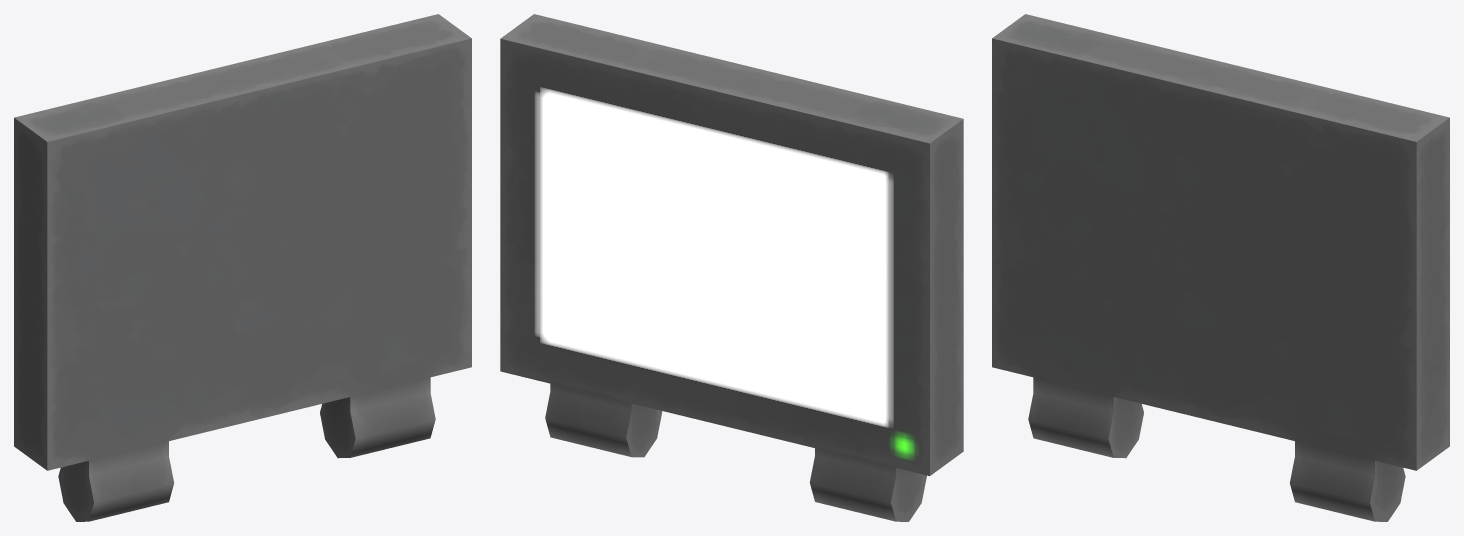
File: SM_Computer.fbx
3 views of the same model, side by side, from view 1: azimuth 30°, elevation 25°; view 2: azimuth 150°, elevation 25°; view 3: azimuth 330°, elevation 25° (orthographic).
Visible parts, largest first — view 1: Mat_Computer_01_01 _blue; view 2: Mat_Computer_01_01 _blue; view 3: Mat_Computer_01_01 _blue.
Boxes of the visible parts, x1,y1,x2,y2 form: Mat_Computer_01_01 _blue: (14,14,471,521); Mat_Computer_01_01 _blue: (500,14,963,521); Mat_Computer_01_01 _blue: (992,14,1449,521).
Bounding box in the file's own units: 0.4671 × 0.4199 × 0.0736.
Materials: 1 (1 with a texture image).
